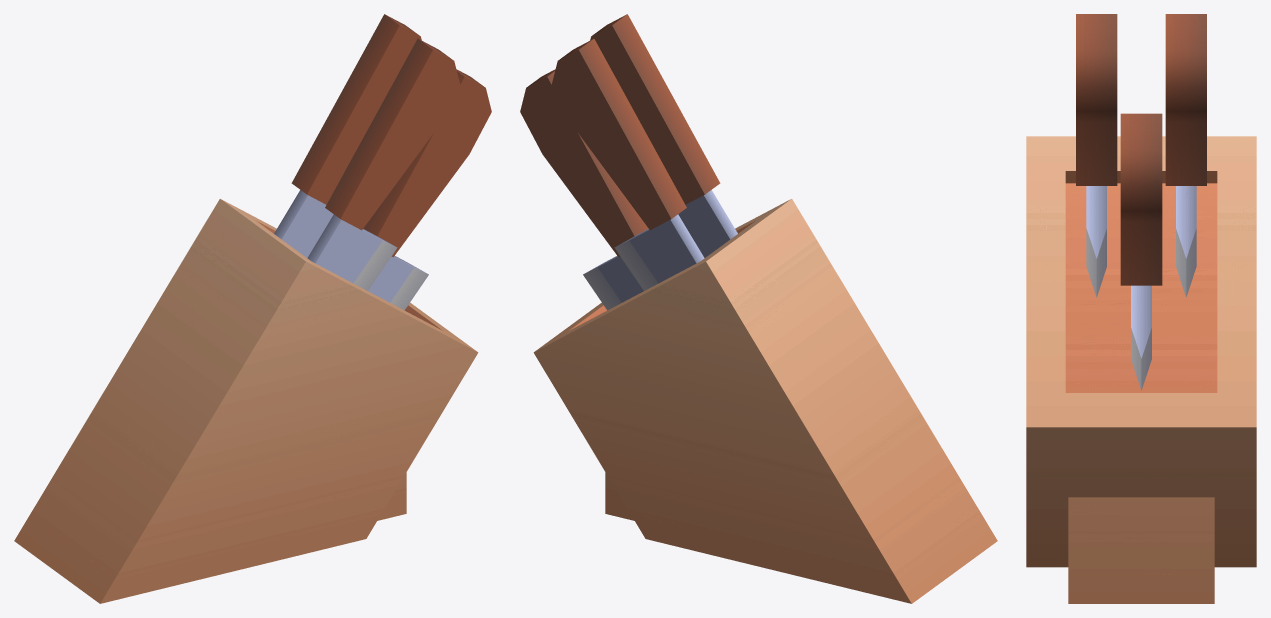
Rendered from knife-block.glb.
3 renders of one model, left to right at view 1: azimuth 30°, elevation 25°; view 2: azimuth 150°, elevation 25°; view 3: azimuth 270°, elevation 25°, orthographic. The views are drawn at different scales.
Parts seen in each view (by area): view 1: knife-block, cooking-knife (×3); view 2: knife-block, cooking-knife (×3); view 3: knife-block, cooking-knife (×3).
Part boxes in pixels (box(x1,y1,x2,y2)): knife-block: box(14, 199, 478, 603); cooking-knife (×3): box(274, 14, 491, 310); knife-block: box(533, 199, 997, 603); cooking-knife (×3): box(520, 14, 737, 310); knife-block: box(1026, 136, 1256, 603); cooking-knife (×3): box(1076, 14, 1206, 390).
Size of the model in its own units: 0.6359 by 0.6624 by 0.2218.
1 material, 1 textured.
